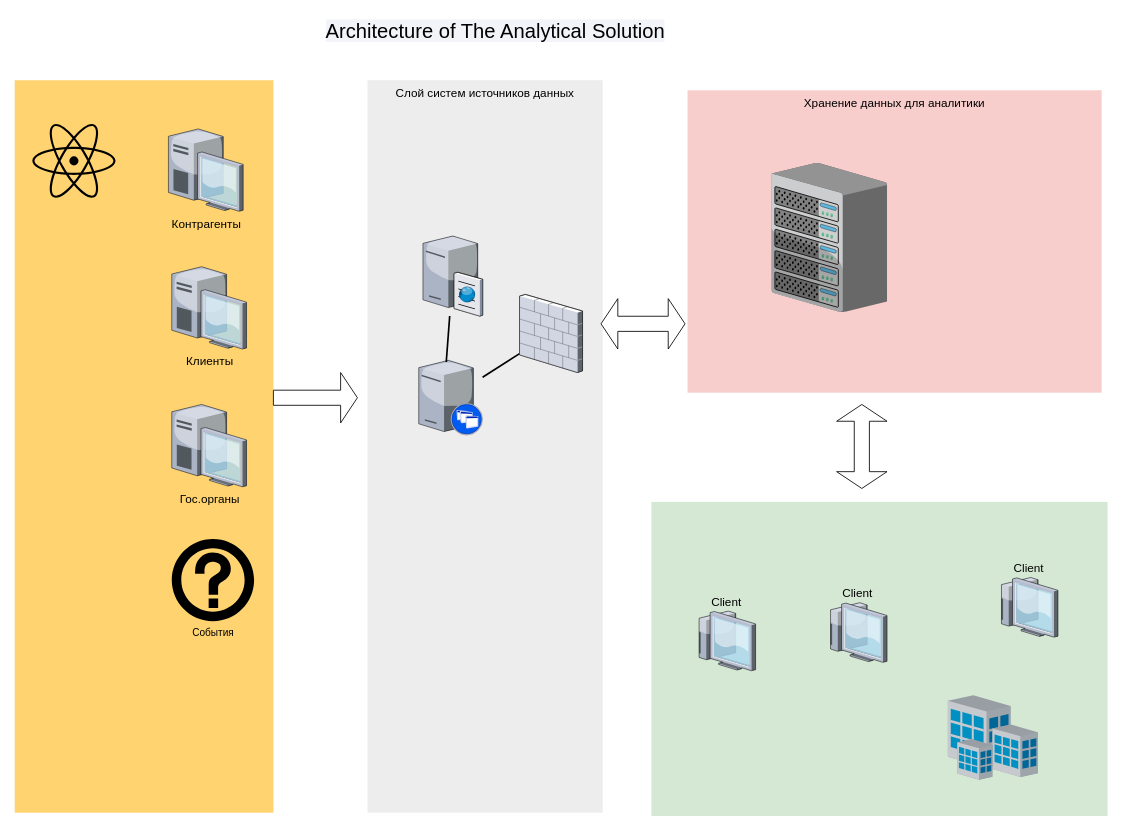
Image size: 1121x830. Some labels were removed from this diagram. Each missing label, with the box of its shape:
Copy: (423, 234, 482, 316)
Data Warehouse: (771, 163, 887, 312)
Генераторы данных: (14, 80, 273, 812)
Слой доступа к данным для бизнес пользователей: (651, 501, 1107, 816)
